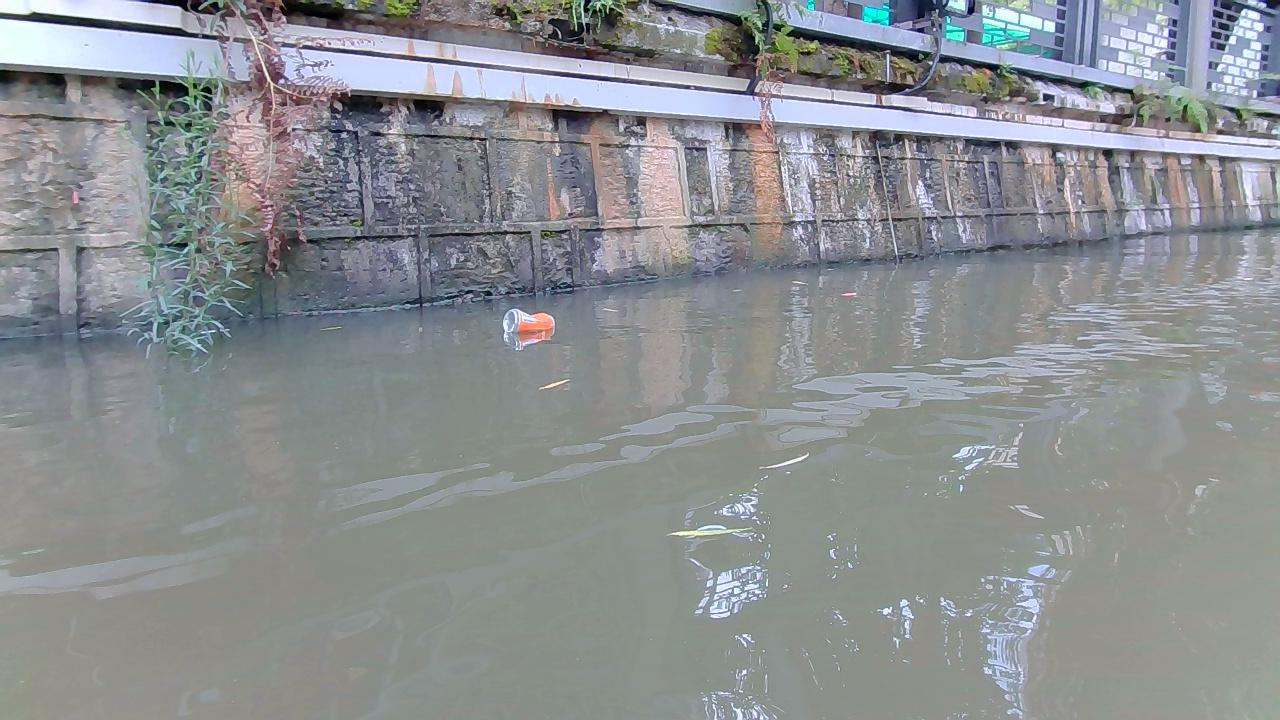Metal: (501, 308, 557, 334)
